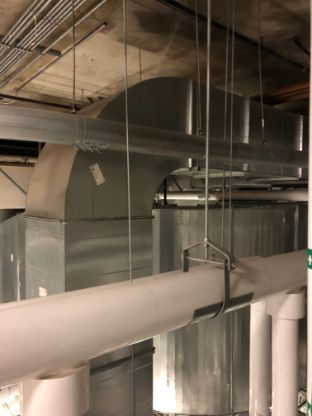Duct: (24, 179, 156, 414), (25, 74, 306, 174)
